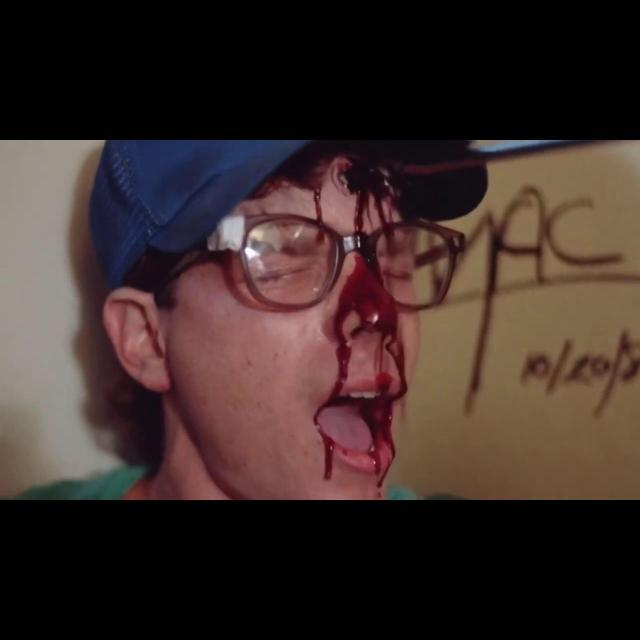blood: (313, 250, 408, 488), (249, 140, 456, 240)
